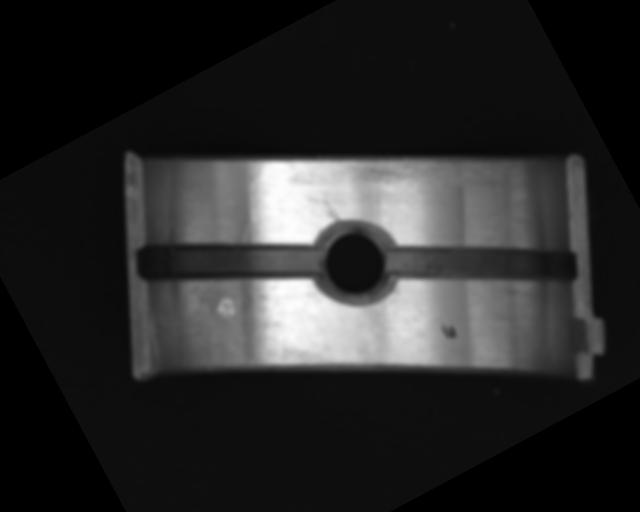blot: (438, 319, 459, 343)
bruise: (212, 295, 239, 323)
gap: (382, 176, 583, 351), (131, 180, 321, 342)
hole: (301, 208, 414, 319)
nick: (227, 155, 288, 224), (321, 197, 341, 226)
scratch: (346, 89, 520, 234)
